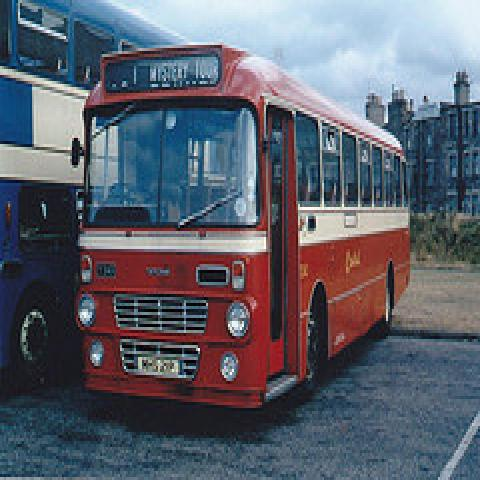bus: (65, 50, 410, 420), (0, 2, 194, 387)
